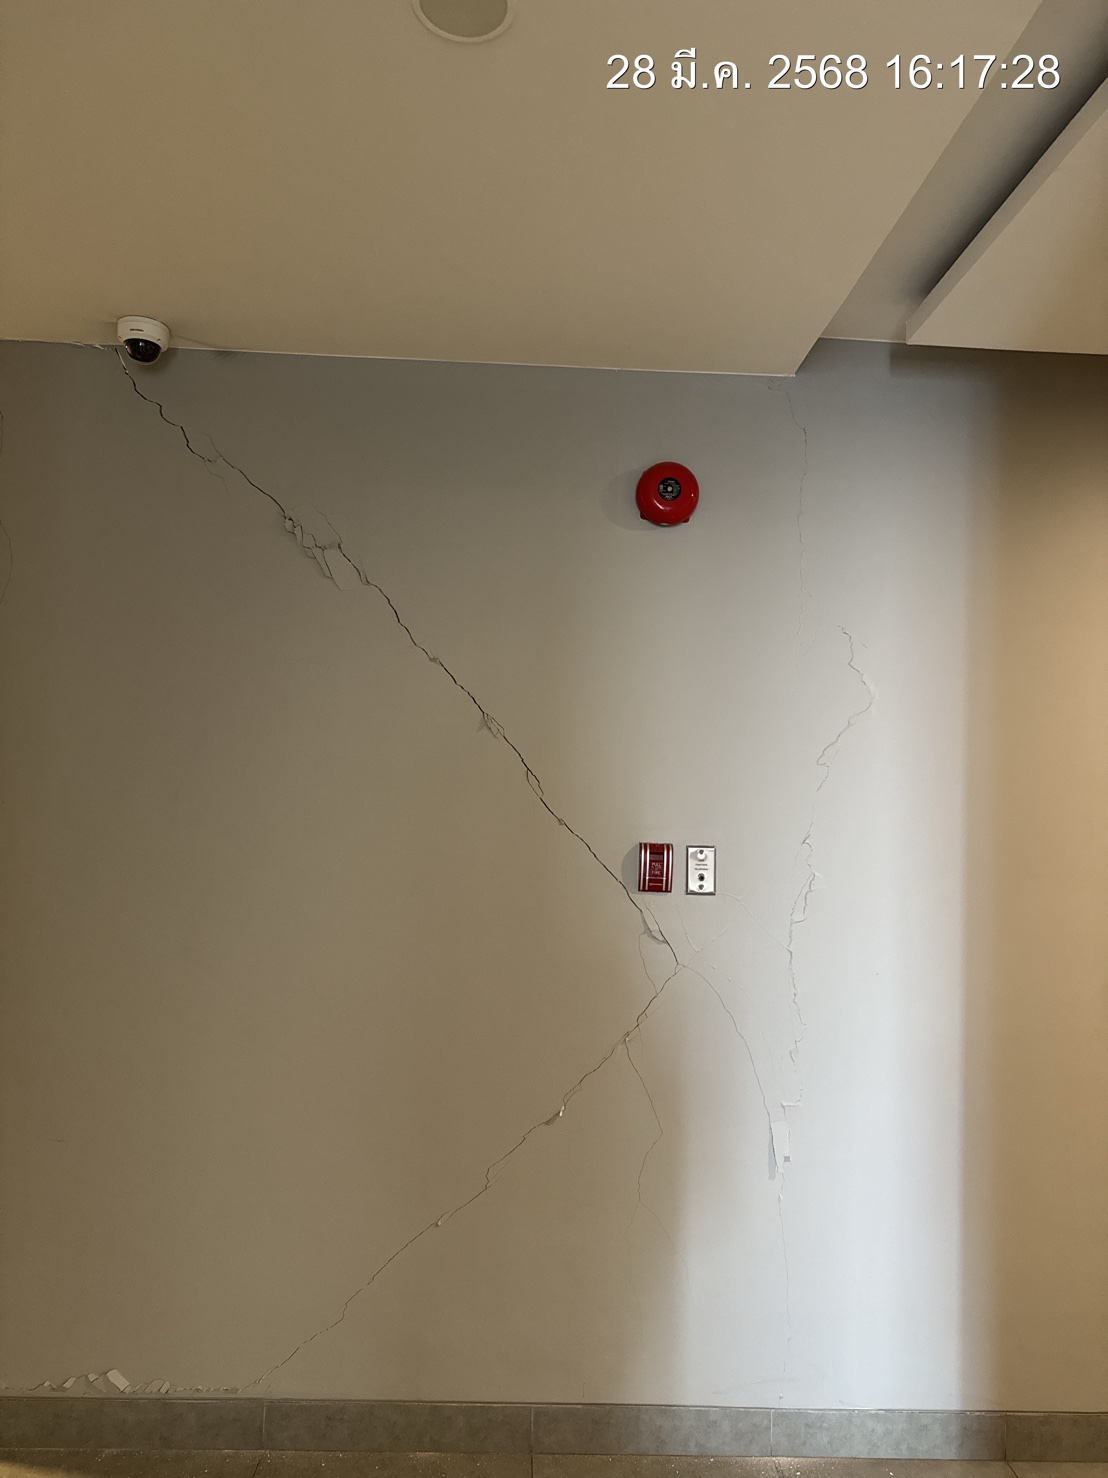Medium: (163, 405, 598, 864)
